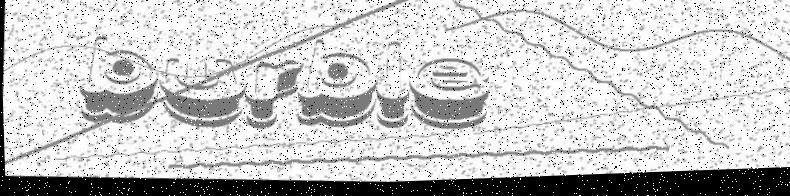b: (75, 30, 161, 127), (296, 38, 381, 133)
e: (407, 54, 491, 135)
l: (371, 40, 413, 133)
r: (244, 58, 303, 133)
u: (156, 51, 248, 133)
